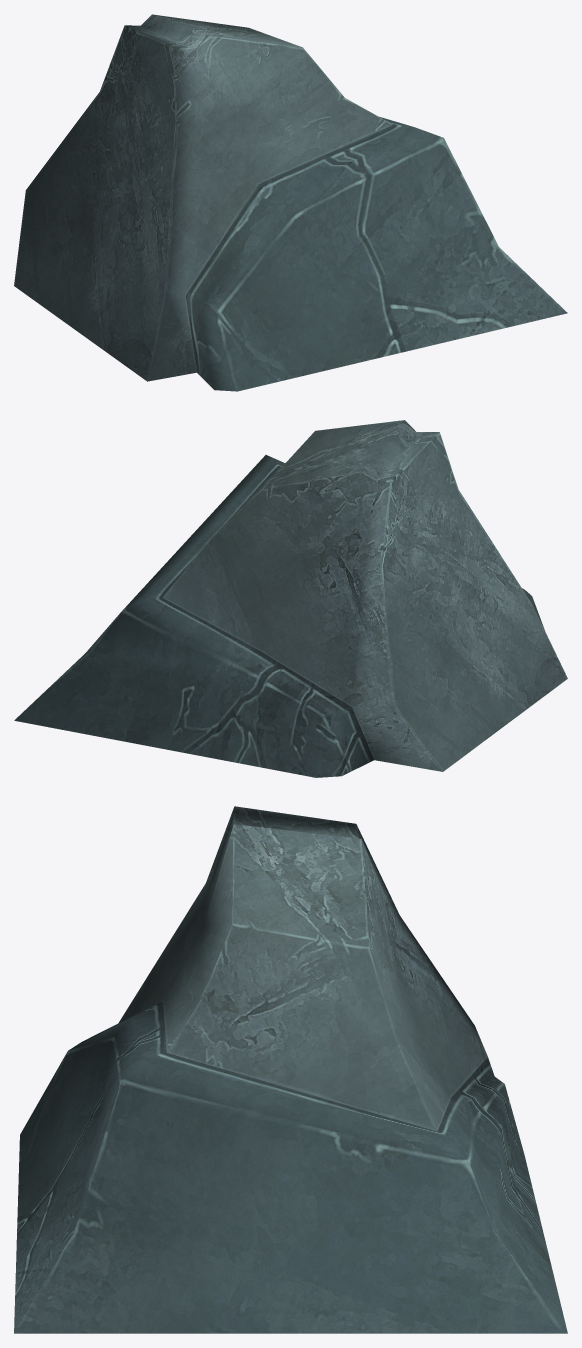
The model's file is Rock_10.fbx.
3 views of the same model, one above another, from view 1: azimuth 30°, elevation 25°; view 2: azimuth 150°, elevation 25°; view 3: azimuth 270°, elevation 25° (orthographic). The views are drawn at different scales.
Visible parts, largest first — view 1: pPlane10; view 2: pPlane10; view 3: pPlane10.
Boxes of the visible parts, bbox=[...] form: pPlane10: bbox=[14, 14, 567, 391]; pPlane10: bbox=[14, 420, 567, 777]; pPlane10: bbox=[14, 806, 567, 1333].
Bounding box in the file's own units: 6.8 × 4.67 × 6.78.
